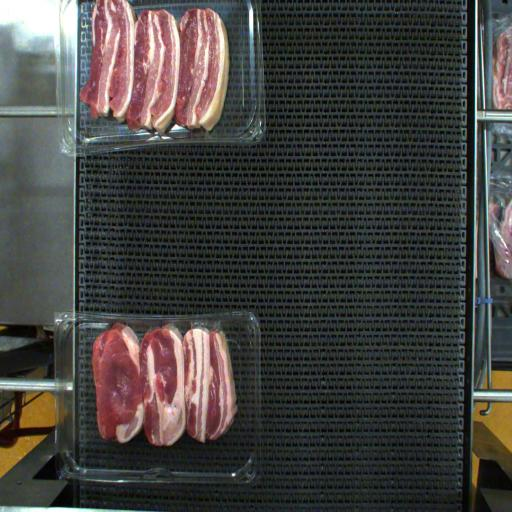packaging-error: (188, 307, 225, 340)
